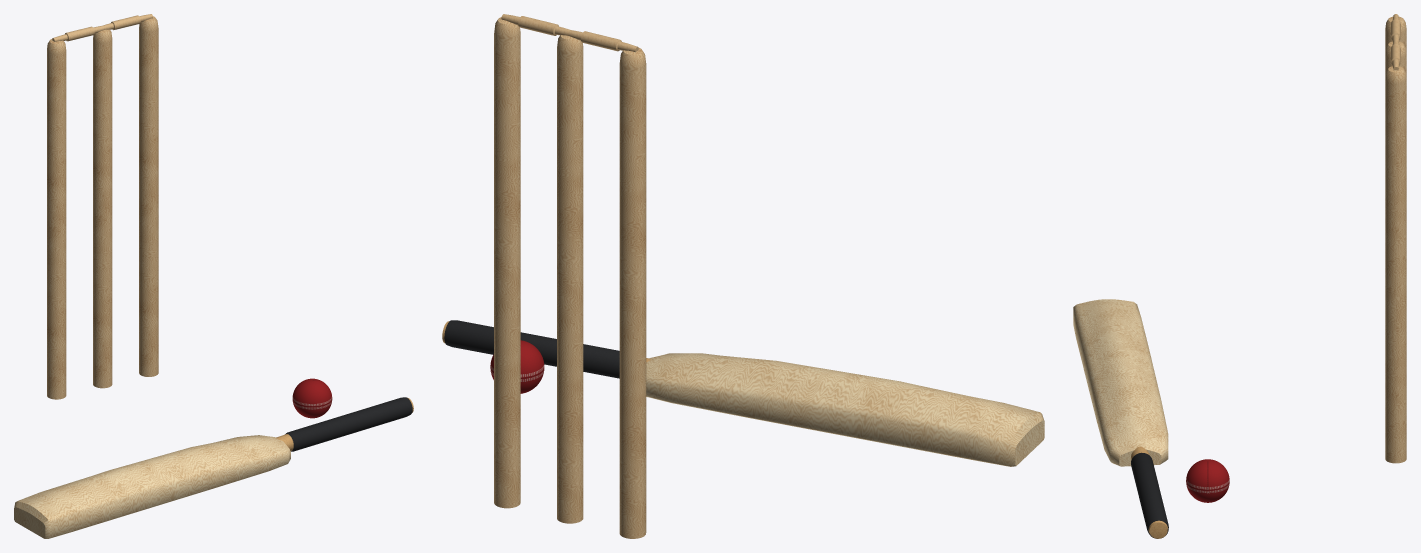
Rendered from cricket-bat-and-stumps.glb.
3 renders of one model, left to right at view 1: azimuth 30°, elevation 25°; view 2: azimuth 150°, elevation 25°; view 3: azimuth 270°, elevation 25°, orthographic. The views are drawn at different scales.
Visible parts, largest first — view 1: Stumps, Cricket bat blade, Cricket bat handle, Cricket ball, Bails; view 2: Stumps, Cricket bat blade, Cricket bat handle, Bails, Cricket ball; view 3: Cricket bat blade, Stumps, Cricket bat handle, Cricket ball, Bails.
Part boxes in pixels (box(x1,y1,x2,y2)): Stumps: box(47, 16, 158, 399); Cricket bat blade: box(14, 435, 290, 538); Cricket bat handle: box(276, 397, 413, 451); Cricket ball: box(292, 378, 332, 418); Bails: box(52, 14, 152, 41); Stumps: box(494, 17, 646, 538); Cricket bat blade: box(646, 353, 1044, 466); Cricket bat handle: box(442, 320, 650, 378); Bails: box(501, 14, 638, 52); Cricket ball: box(490, 340, 544, 393); Cricket bat blade: box(1073, 299, 1168, 466); Stumps: box(1385, 16, 1406, 463); Cricket bat handle: box(1131, 446, 1168, 538); Cricket ball: box(1186, 459, 1229, 502); Bails: box(1391, 14, 1400, 70).
Size of the model in its own units: 0.8524 by 0.7197 by 0.5499.
5 materials, 5 textured.
